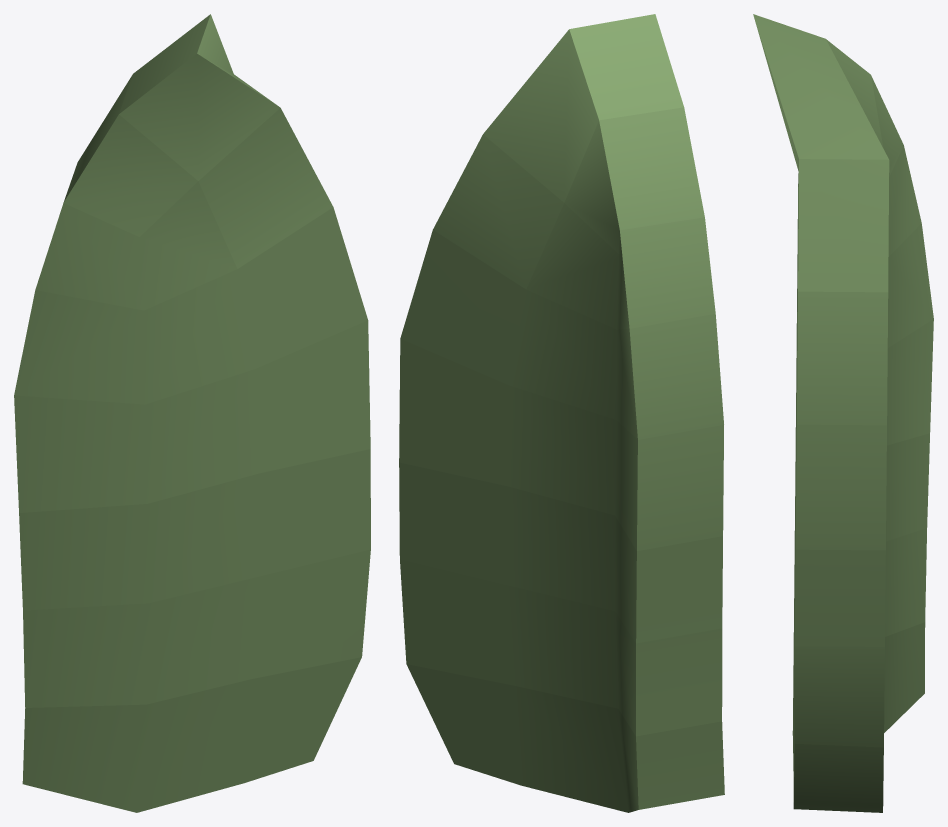
The model's file is thickleafonenew.fbx.
3 renders of one model, left to right at view 1: azimuth 30°, elevation 25°; view 2: azimuth 150°, elevation 25°; view 3: azimuth 270°, elevation 25°, orthographic. The views are drawn at different scales.
Visible parts, largest first — view 1: polySurface1; view 2: polySurface1; view 3: polySurface1.
Part boxes in pixels (x1,y1,x2,y2): polySurface1: (14,14,370,812); polySurface1: (399,14,724,812); polySurface1: (753,14,933,812).
Size of the model in its own units: 1.61 by 3.65 by 0.8092.
